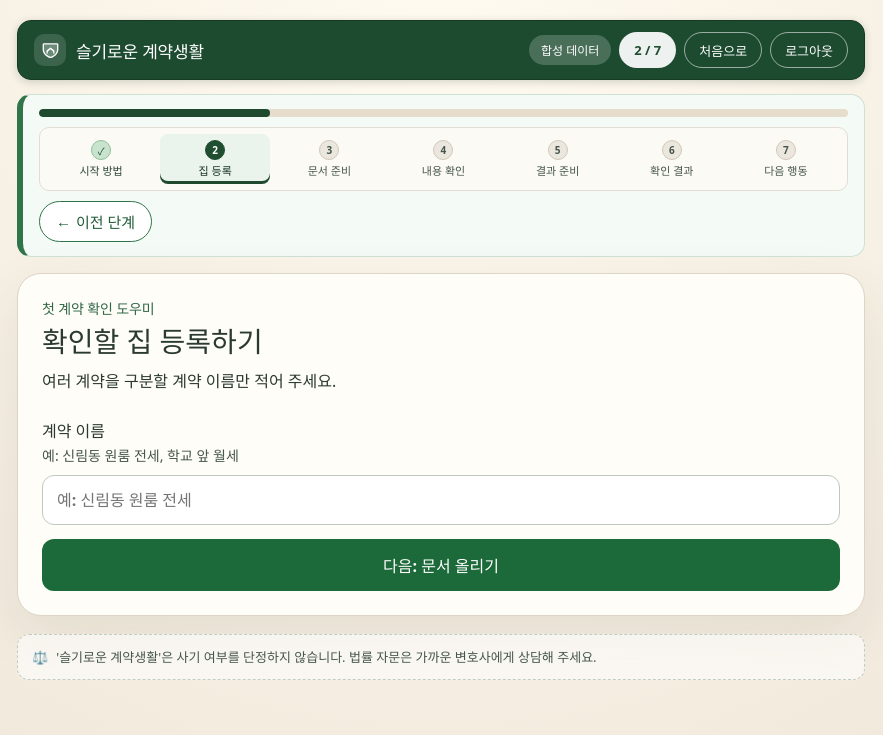
Scenario: primary page API errors › keeps contract creation retryable for a 422 response
Type "테스트 계약" into the field labelled "계약 이름 예: 신림동 원룸 전세, 학교 앞 월세".
click(441, 500); type("테스트 계약")  # box [42,475,840,525]
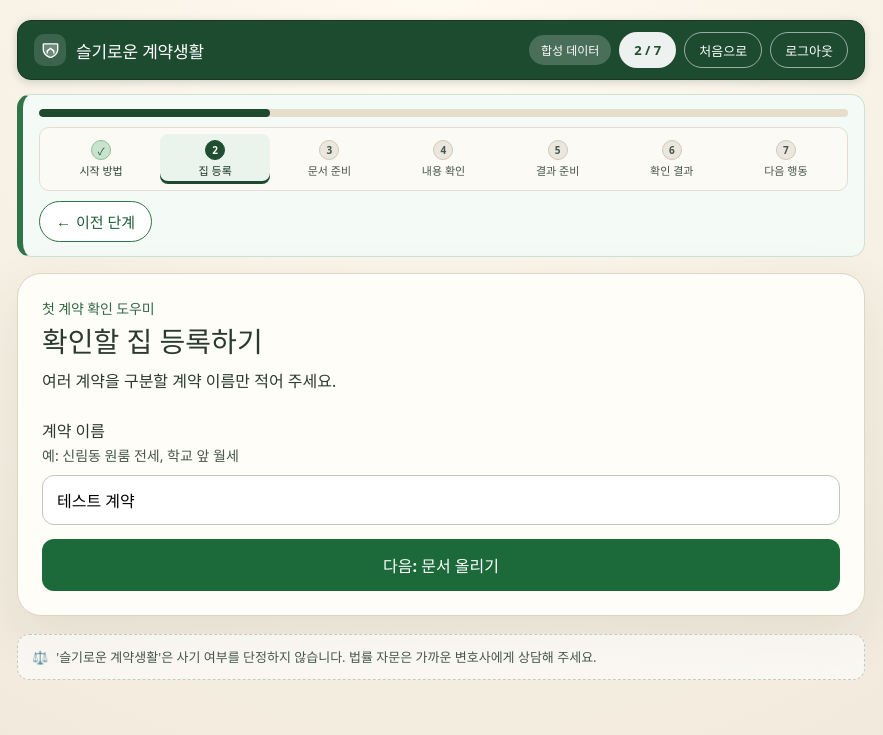
Click the button "다음: 문서 올리기".
click(441, 565)  # box [42,539,840,591]
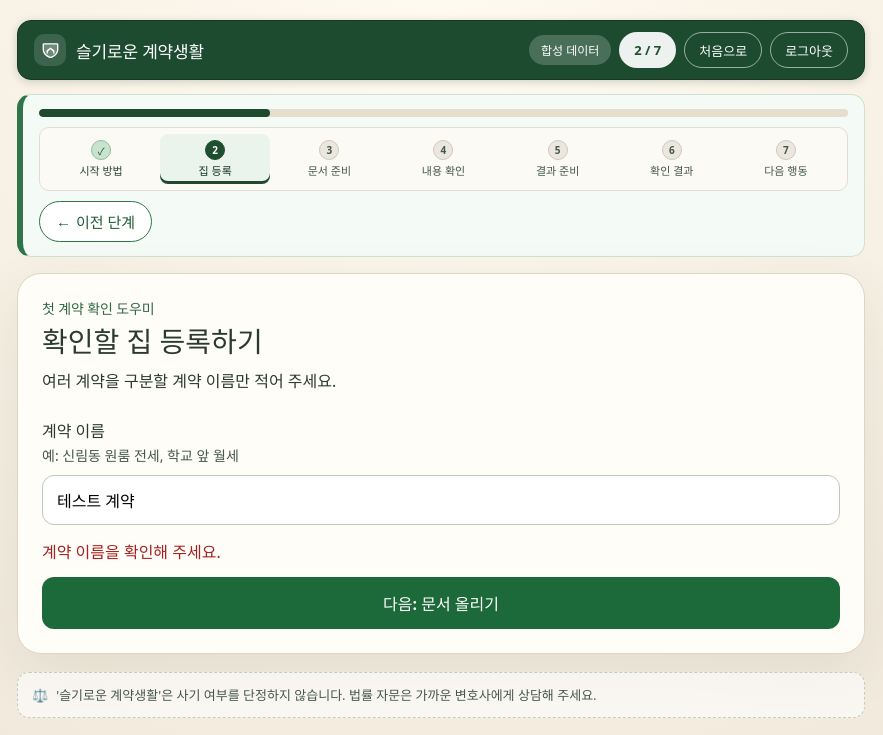
Expected: the button "다음: 문서 올리기" is enabled, [42,577,840,629]
Expected: the message reads "계약 이름을 확인해 주세요.", [42,541,221,563]
